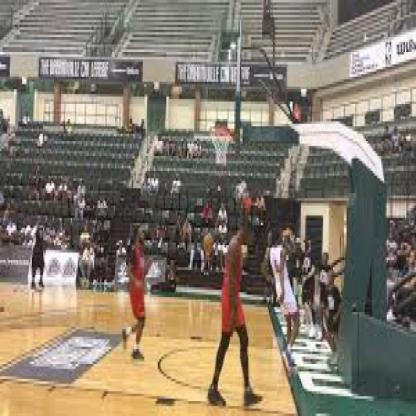basketball: (204, 233, 214, 256)
rim: (210, 126, 235, 139)
